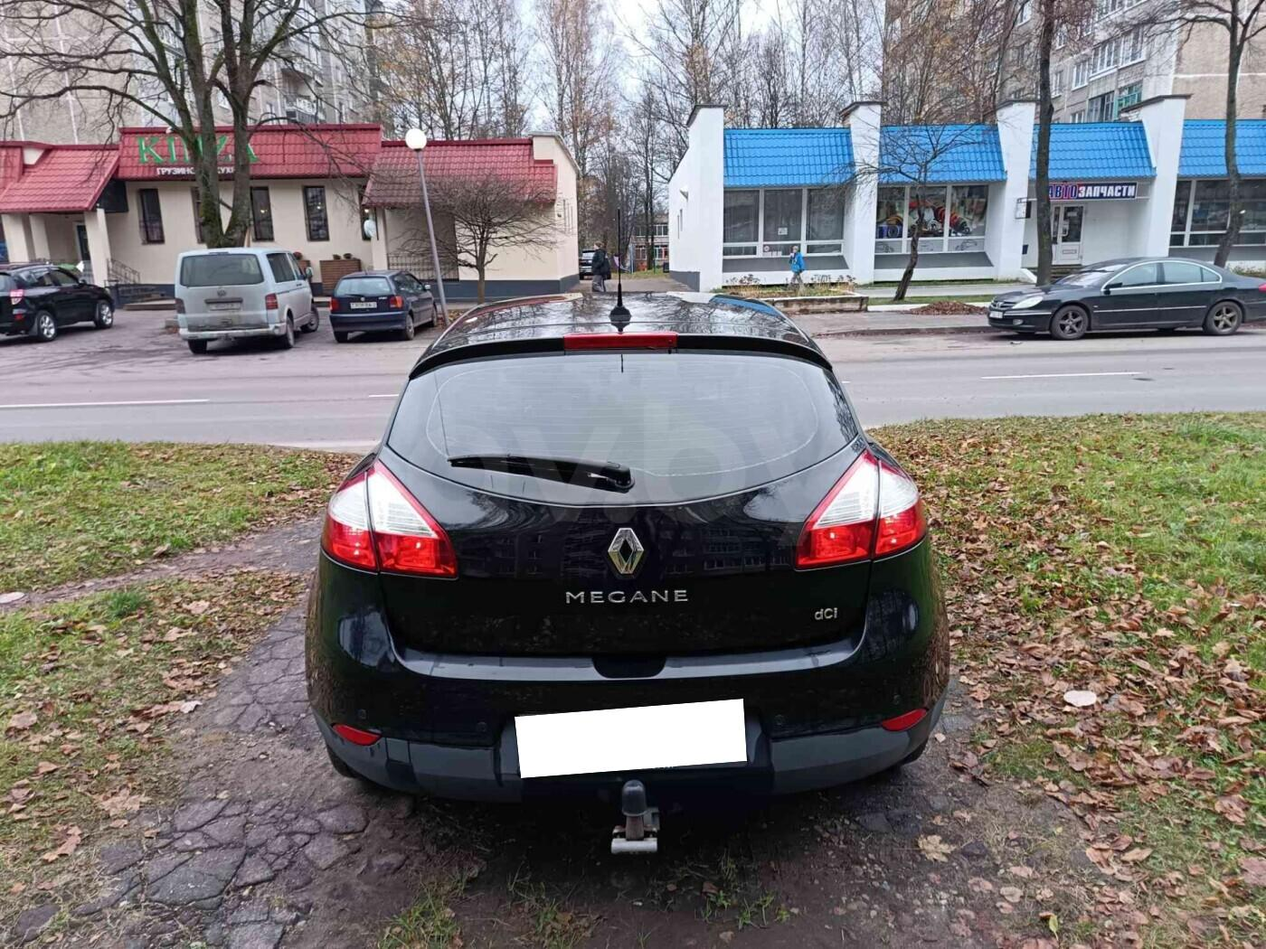Megane_2008-2014: (305, 285, 957, 851)
